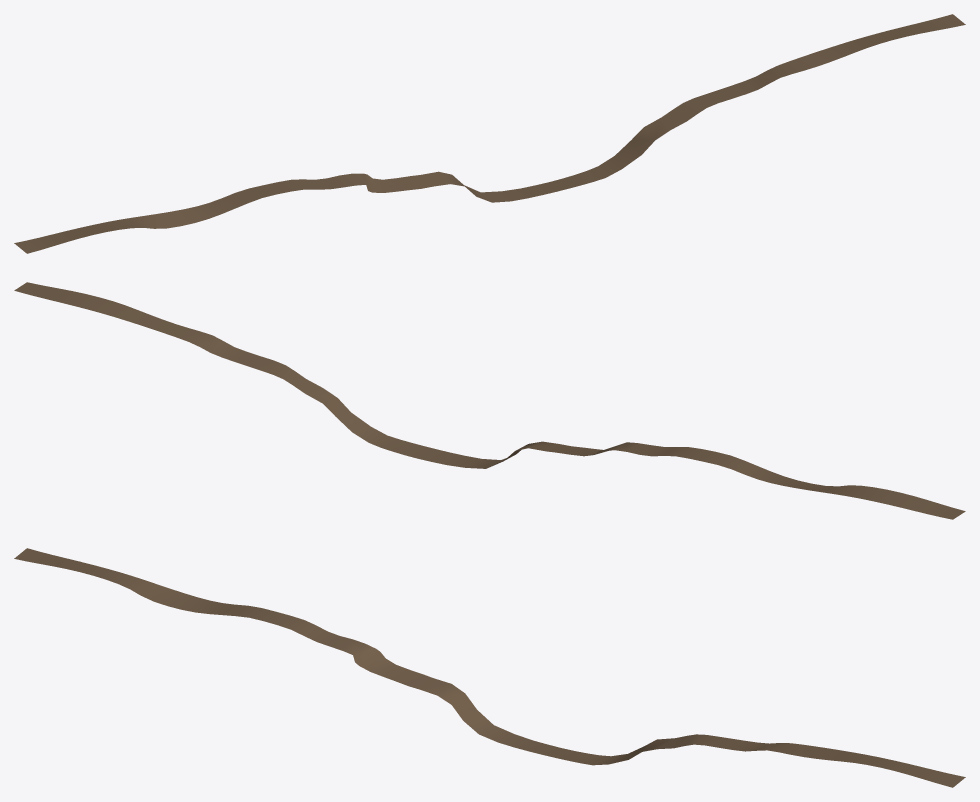
The model's file is desert_partOasis_way.fbx.
3 views of the same model, one above another, from view 1: azimuth 30°, elevation 25°; view 2: azimuth 150°, elevation 25°; view 3: azimuth 330°, elevation 25° (orthographic).
Visible parts, largest first — view 1: Grid.009; view 2: Grid.009; view 3: Grid.009.
Boxes of the visible parts, left/top/right/bottom form: Grid.009: left=14, top=14, right=965, bottom=253; Grid.009: left=14, top=282, right=965, bottom=519; Grid.009: left=14, top=548, right=965, bottom=787.
Size of the model in its own units: 5969 by 432 by 144.
